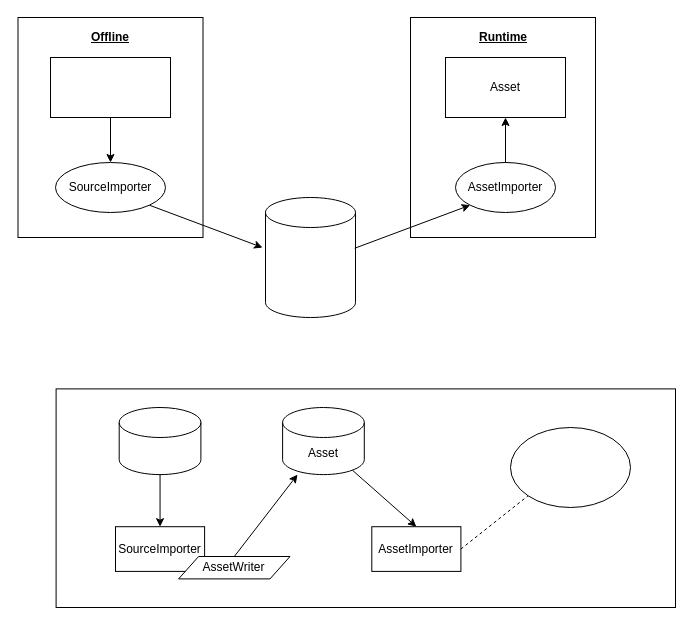
This 693x625 diagram has some shape labels left out. The box of each missing label's shape, as (x1, y1, x2, y2) in pixels:
Asset Runtime: (510, 426, 630, 508)
Disk: (264, 196, 356, 318)
Source Format: (50, 56, 170, 118)
SourceAsset: (118, 406, 201, 475)
